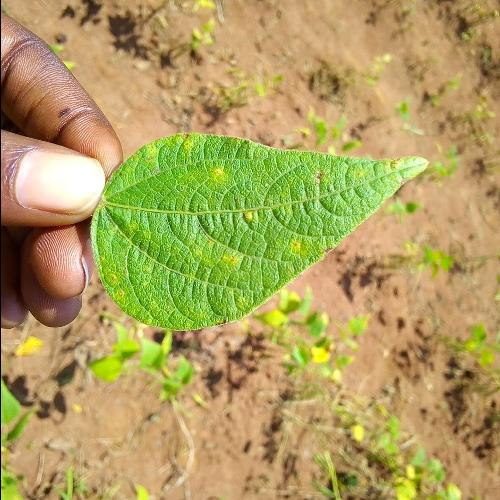mozaik: (58, 136, 337, 381)
